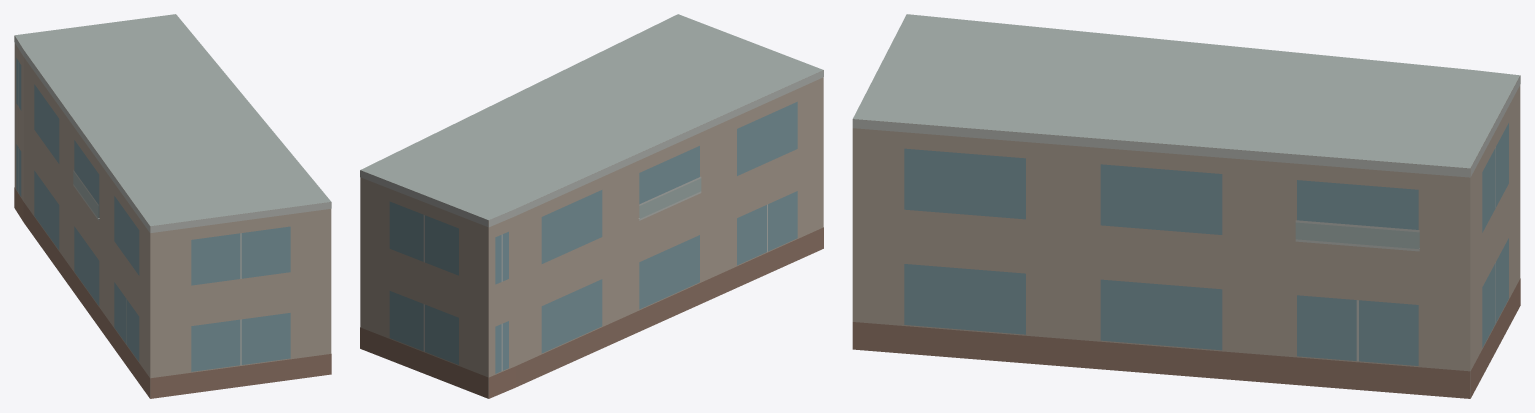
File: survey-upis-32704950.glb
3 views of the same model, side by side, from view 1: azimuth 30°, elevation 25°; view 2: azimuth 150°, elevation 25°; view 3: azimuth 270°, elevation 25° (orthographic). The views are drawn at different scales.
Visible parts, largest first — view 1: survey-upis-32704950.tmp; view 2: survey-upis-32704950.tmp; view 3: survey-upis-32704950.tmp.
Boxes of the visible parts, <box> form: survey-upis-32704950.tmp: <box>14,14,331,398</box>; survey-upis-32704950.tmp: <box>360,14,823,398</box>; survey-upis-32704950.tmp: <box>852,14,1520,398</box>.
Size of the model in its own units: 8.77 by 6.1 by 16.03.
